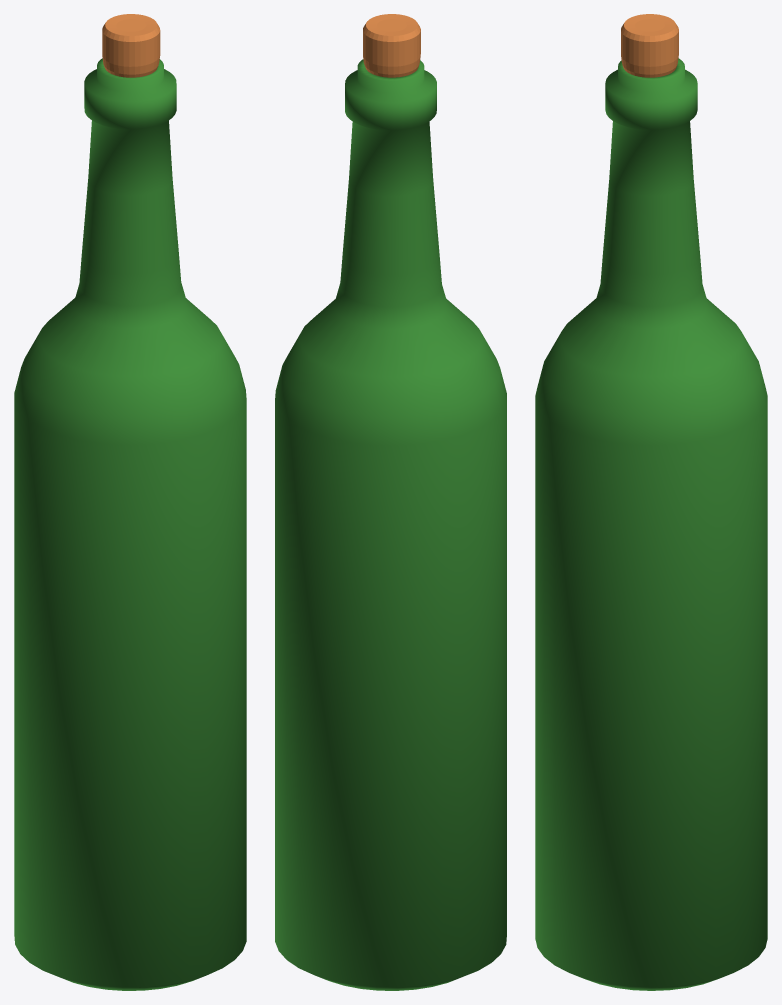
Rendered from beer bottle 3.fbx.
3 renders of one model, left to right at view 1: azimuth 30°, elevation 25°; view 2: azimuth 150°, elevation 25°; view 3: azimuth 270°, elevation 25°, orthographic.
Parts seen in each view (by area): view 1: bottle, cap; view 2: bottle, cap; view 3: bottle, cap.
Boxes of the visible parts, x1=… form: bottle: x1=14, y1=58, x2=246, y2=990; cap: x1=102, y1=14, x2=160, y2=77; bottle: x1=275, y1=59, x2=506, y2=990; cap: x1=363, y1=14, x2=420, y2=77; bottle: x1=535, y1=58, x2=767, y2=990; cap: x1=621, y1=14, x2=678, y2=77.
Bounding box in the file's own units: 320 × 1407 × 320.
